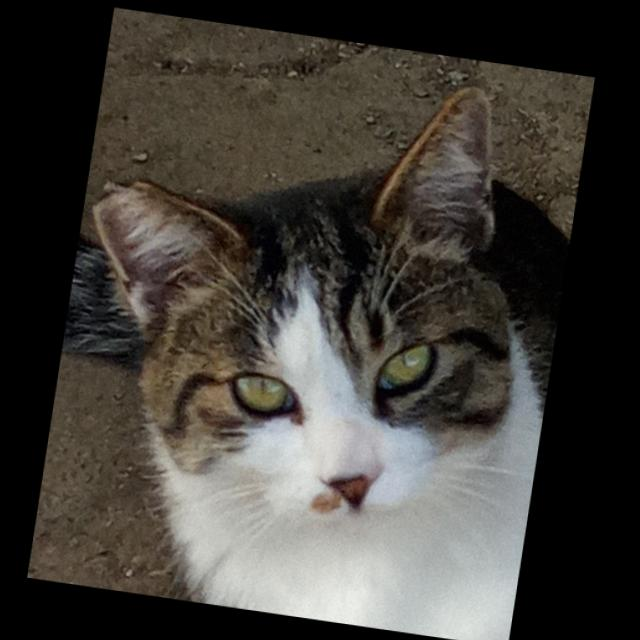animals: (37, 26, 569, 589)
